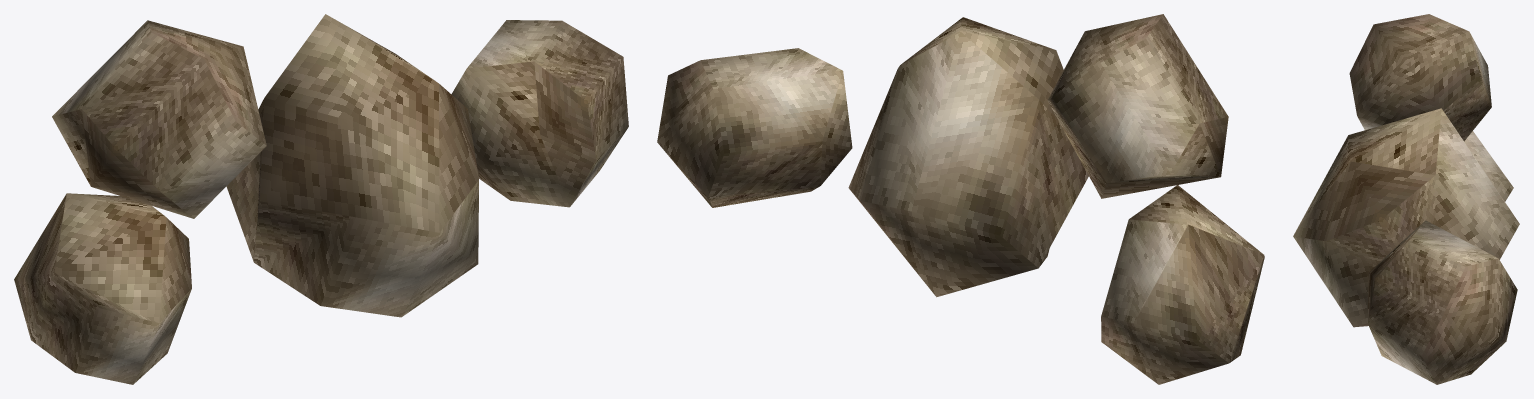
3 renders of one model, left to right at view 1: azimuth 30°, elevation 25°; view 2: azimuth 150°, elevation 25°; view 3: azimuth 270°, elevation 25°, orthographic. The views are drawn at different scales.
Visible parts, largest first — view 1: model_Object57; view 2: model_Object57; view 3: model_Object57.
Boxes of the visible parts, <box> form: model_Object57: <box>14,14,628,384</box>; model_Object57: <box>657,14,1264,384</box>; model_Object57: <box>1293,14,1519,384</box>.
Size of the model in its own units: 0.8142 by 0.4284 by 0.3458.
Materials: 1 (1 with a texture image).
